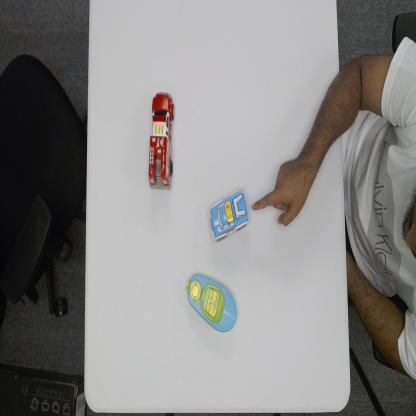Arm: (308, 70, 341, 166)
Boat: (184, 271, 238, 334)
Car: (208, 186, 250, 244)
Firetruck: (148, 90, 176, 192)
Hand: (252, 158, 310, 230)
